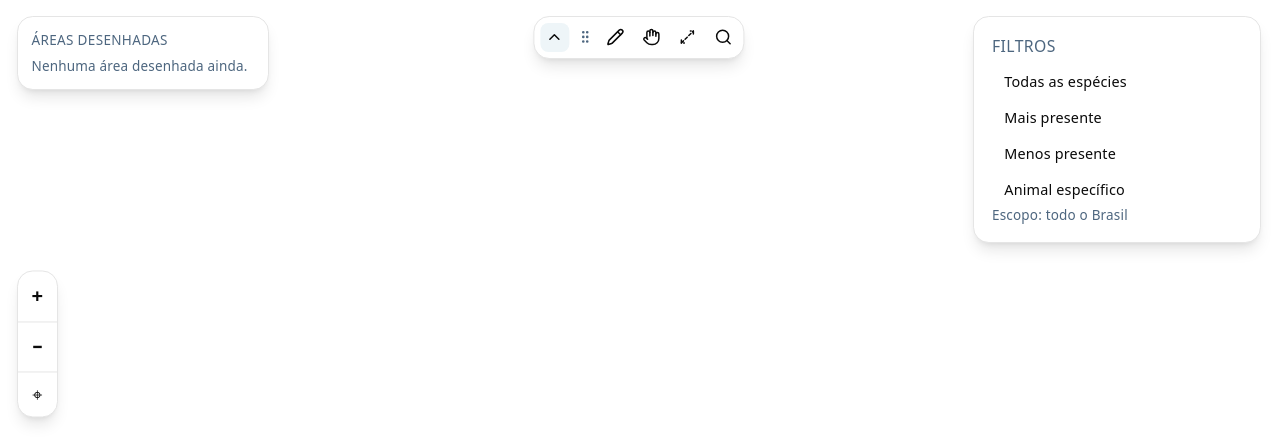
Test: CA-4: toolbar de ferramentas sob o header, recolhível e com modos › toolbar fica sob o header (top-16) e o botão de recolher esconde as ferramentas
The image size is (1278, 442).
expect the button with test id "ferramenta-desenhar" is shown: met, box [600,22,631,53]
expect the button with test id "ferramenta-arrastar" is shown: met, box [636,22,667,53]
Click the button with test id "ferramenta-recolher": (555, 37) [539,22,570,53]
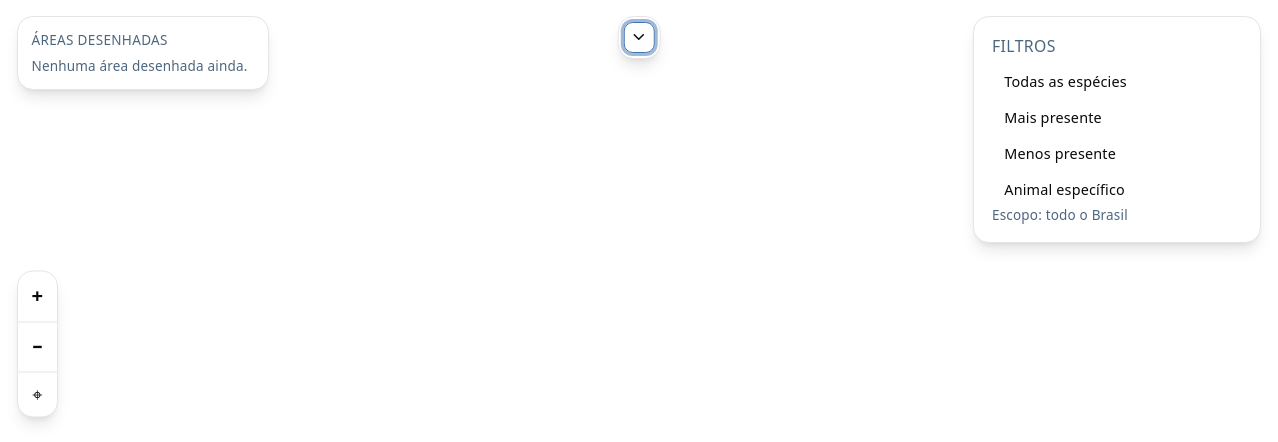
expect the button with test id "ferramenta-desenhar" is gone: met
expect the button with test id "ferramenta-arrastar" is gone: met
Click the button with test id "ferramenta-recolher": (639, 37) [623,22,655,53]
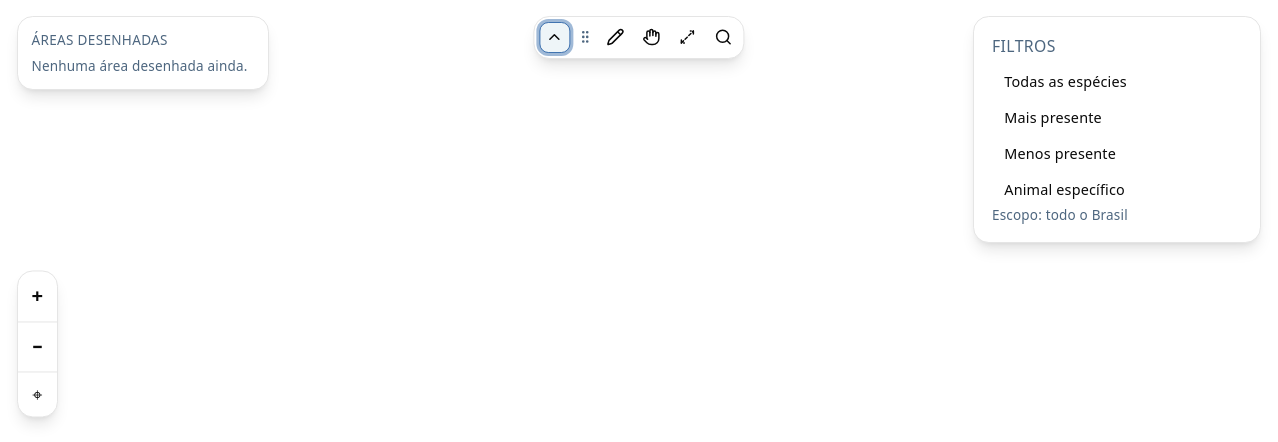
expect the button with test id "ferramenta-desenhar" is shown: met, box [600,22,631,53]
